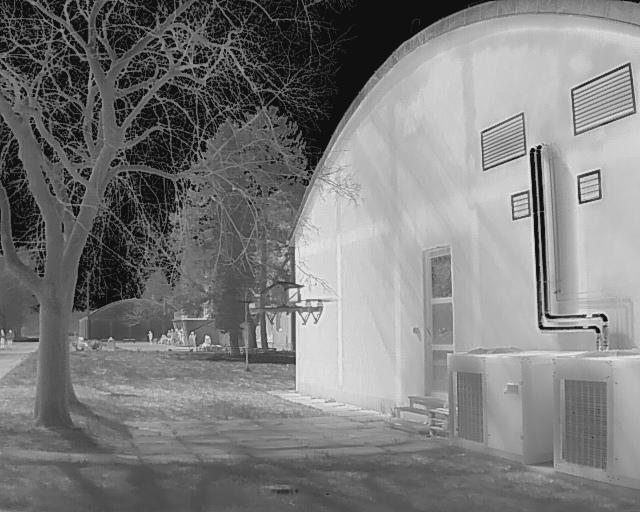drone: (237, 284, 342, 335)
